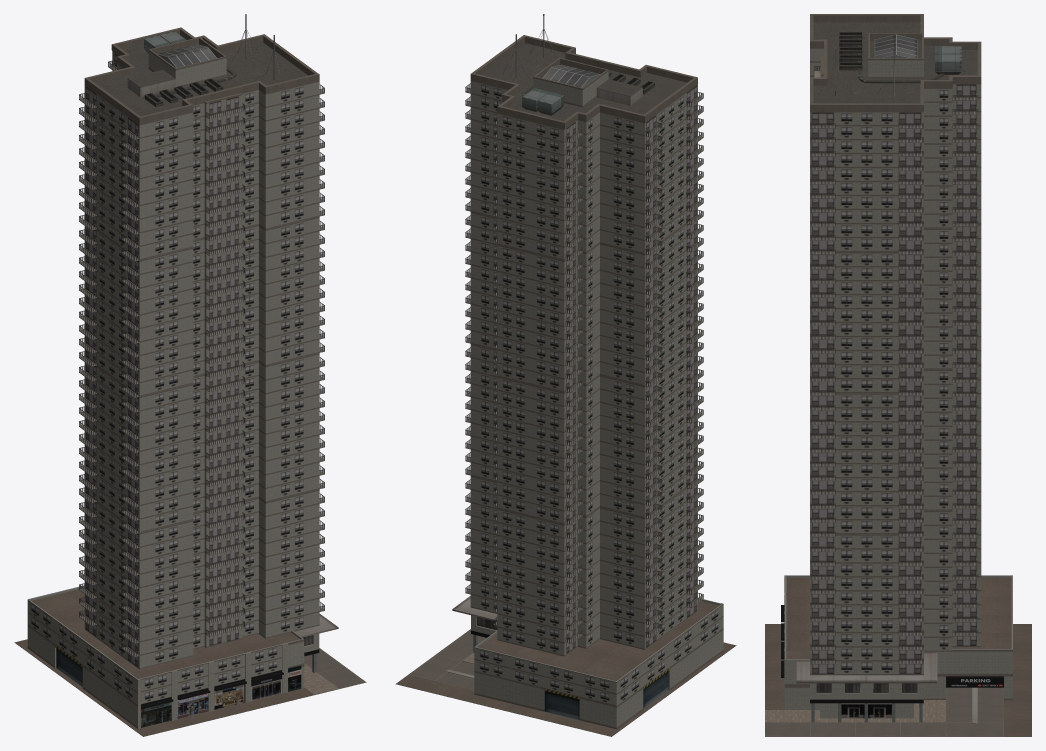
3 renders of one model, left to right at view 1: azimuth 30°, elevation 25°; view 2: azimuth 150°, elevation 25°; view 3: azimuth 270°, elevation 25°, orthographic. The views are drawn at different scales.
Visible parts, largest first — view 1: hirise1; view 2: hirise1; view 3: hirise1.
Part boxes in pixels (x1,y1,x2,y2): hirise1: (14, 14, 366, 736); hirise1: (395, 14, 736, 736); hirise1: (765, 14, 1031, 736).
Size of the model in its own units: 5400 by 14711 by 5400.
1 material, 1 textured.
